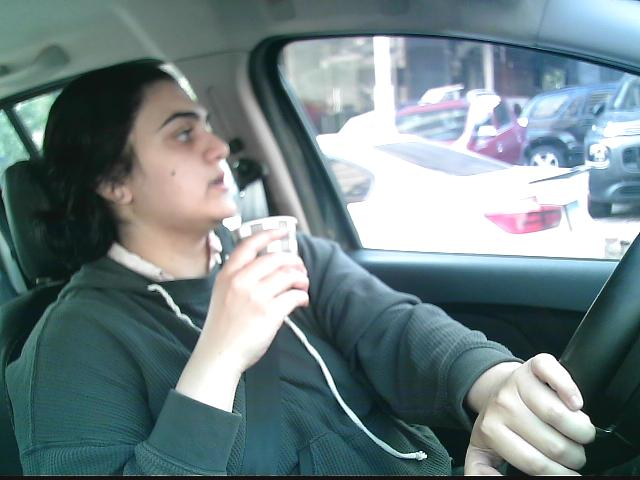Drinking: (224, 209, 310, 338)
